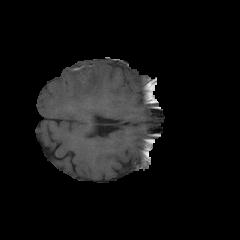glioma: (44, 63, 113, 113)
